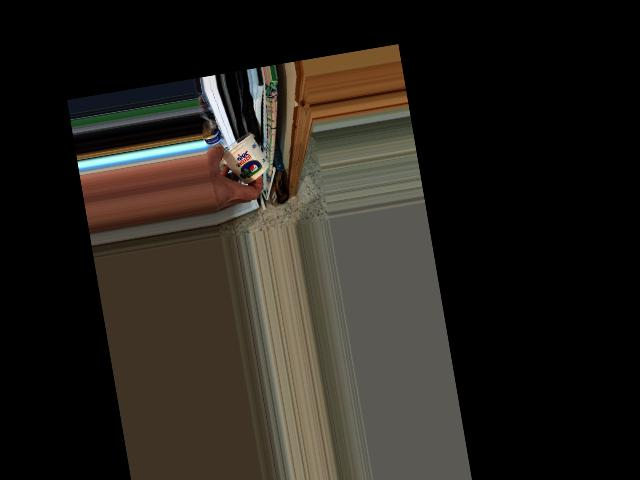cotage: (220, 128, 270, 184)
